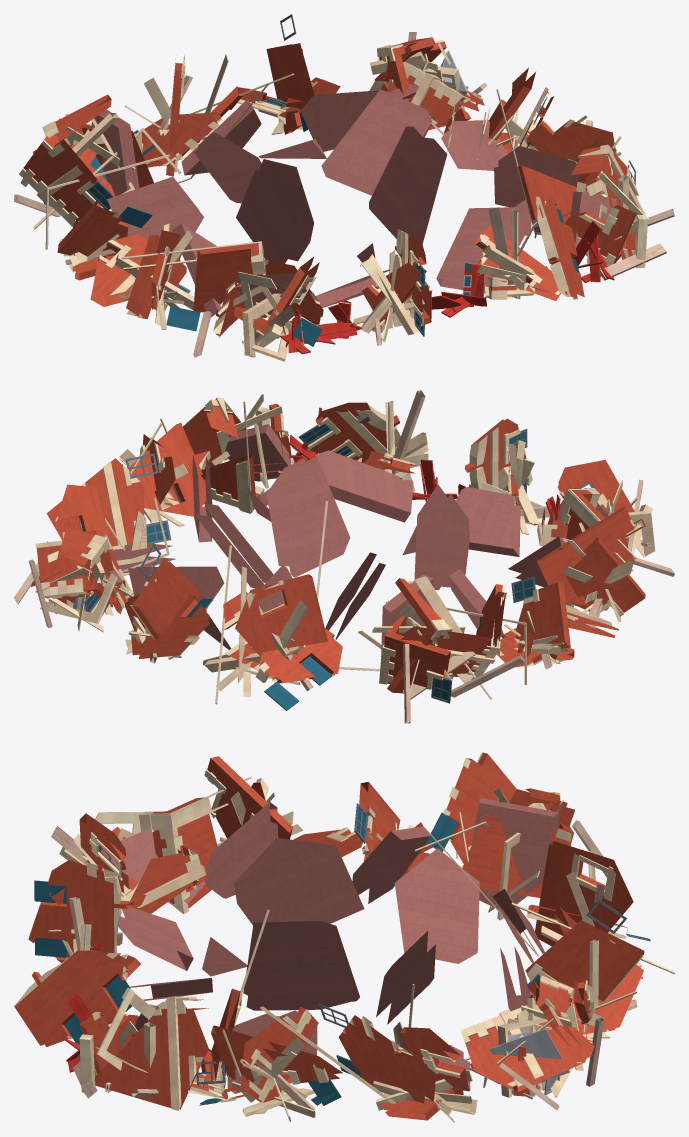
File: houdini_fire_station_pieces.glb
3 views of the same model, one above another, from view 1: azimuth 30°, elevation 25°; view 2: azimuth 150°, elevation 25°; view 3: azimuth 270°, elevation 25° (orthographic). The views are drawn at different scales.
Parts seen in each view (by area): view 1: LOD0; view 2: LOD0; view 3: LOD0.
Boxes of the visible parts, bbox=[...] form: LOD0: bbox=[14, 14, 674, 361]; LOD0: bbox=[14, 390, 674, 723]; LOD0: bbox=[14, 752, 674, 1122].
Size of the model in its own units: 26.58 by 6.51 by 26.32.
Materials: 4 (4 with a texture image).
